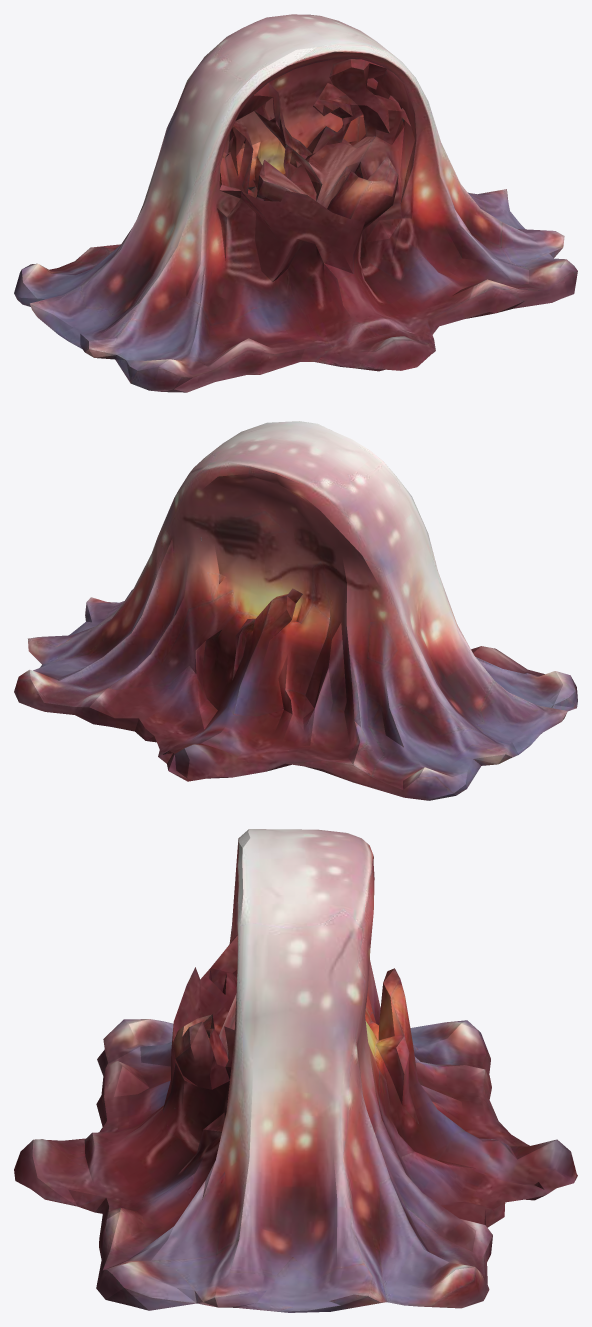
Rendered from bloby.glb.
3 renders of one model, top to bottom at view 1: azimuth 30°, elevation 25°; view 2: azimuth 150°, elevation 25°; view 3: azimuth 270°, elevation 25°, orthographic. The views are drawn at different scales.
Parts seen in each view (by area): view 1: mesh; view 2: mesh; view 3: mesh.
Part boxes in pixels (<box>): mesh: <box>14,14,577,392</box>; mesh: <box>14,421,577,800</box>; mesh: <box>14,829,577,1312</box>.
Size of the model in its own units: 1 by 0.52 by 0.8051.
1 material, 1 textured.
